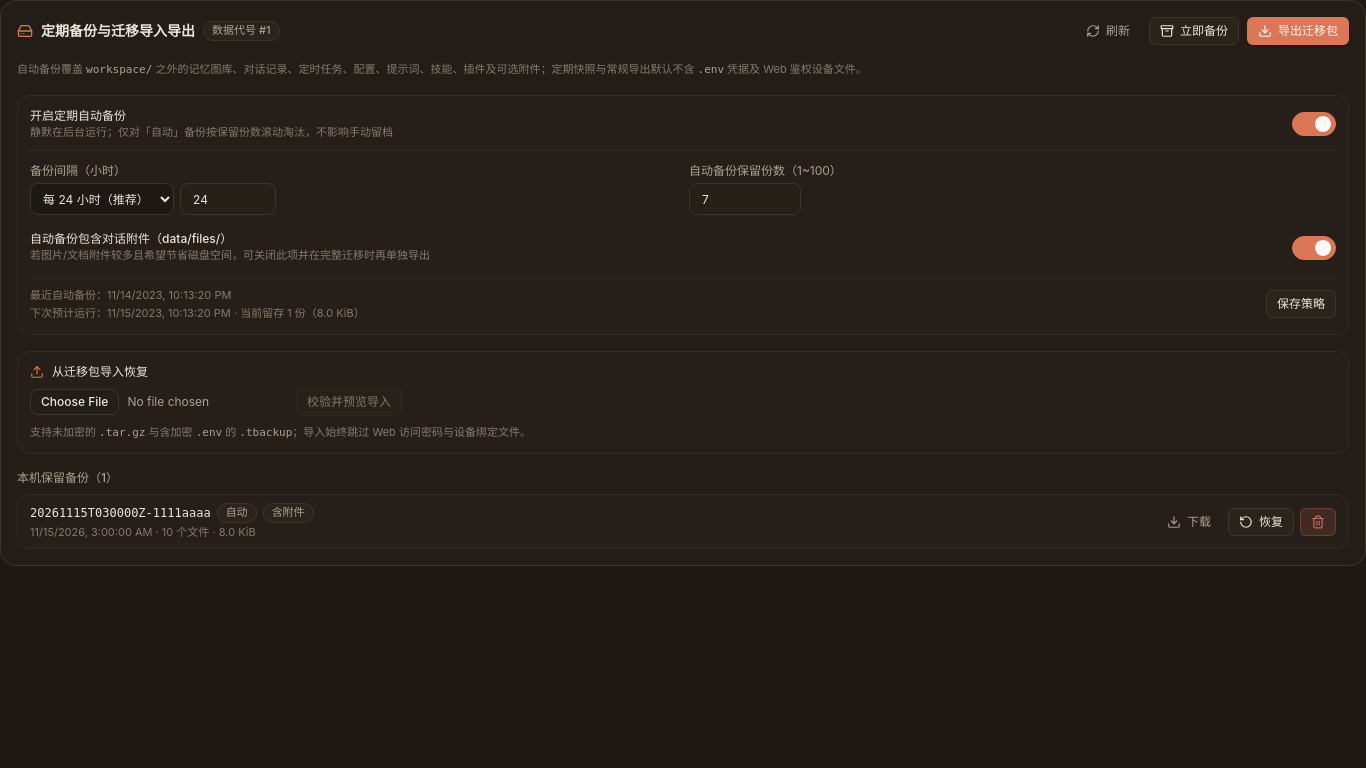
it: BackupSection › disables .env export checkbox when web auth is not enabled
The width and height of the screenshot is (1366, 768).
Expected: the text "20261115T030000Z-1111aaaa" is shown, [30,505,211,521]
Click the button "导出迁移包": x=1298, y=31 [1247,17,1349,45]
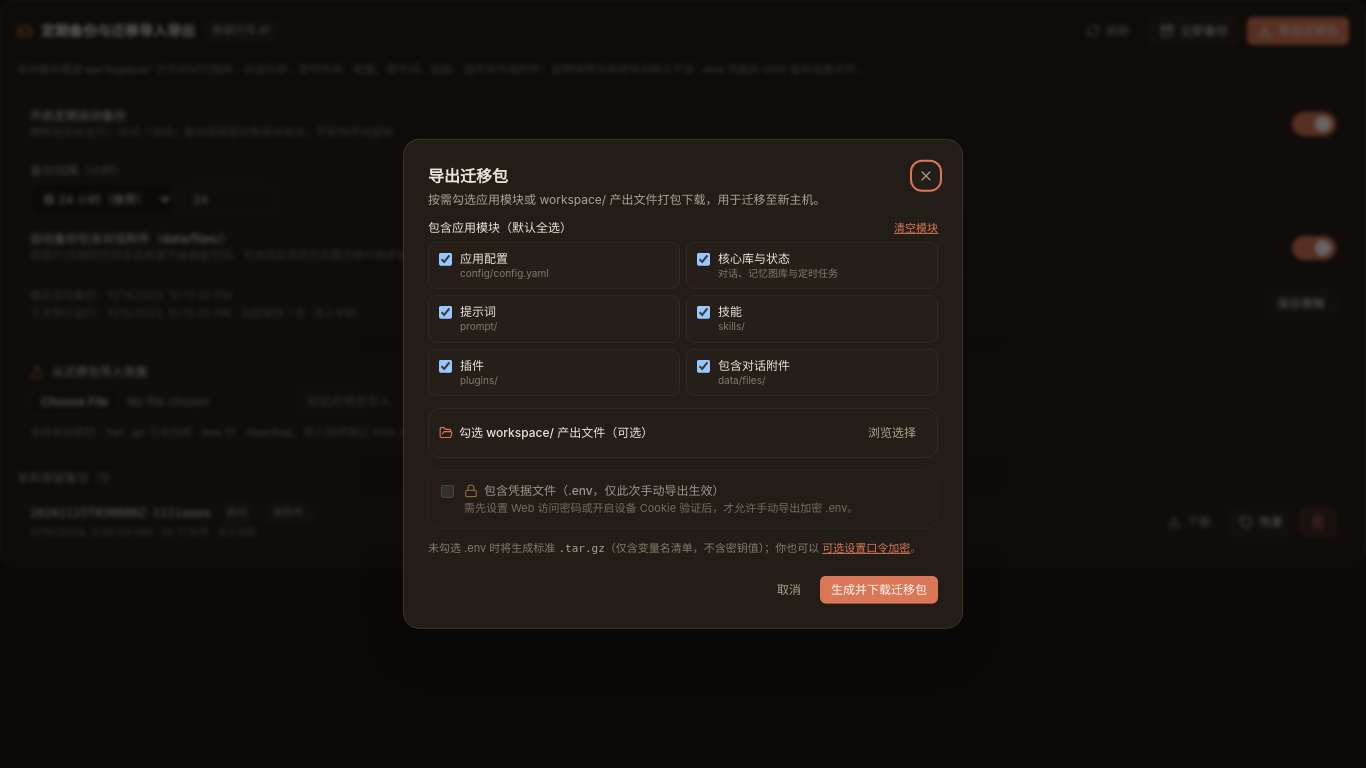
Expected: the checkbox labelled "包含凭据文件" is disabled, [441,485,454,498]
